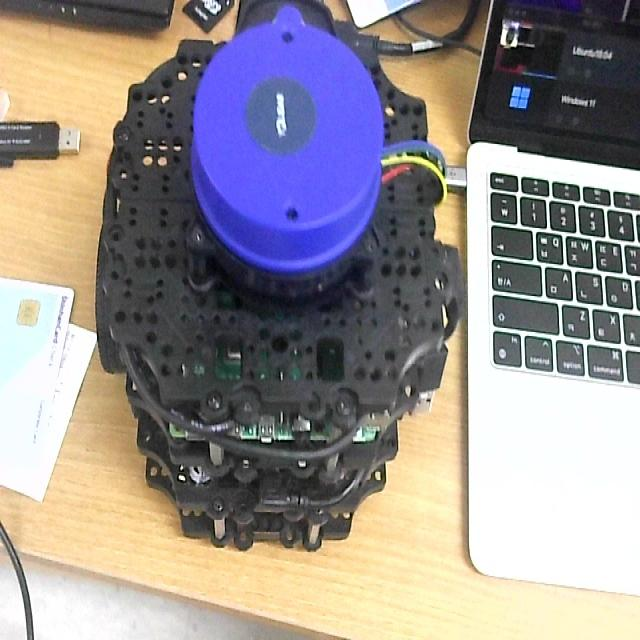turtle: (94, 0, 464, 556)
